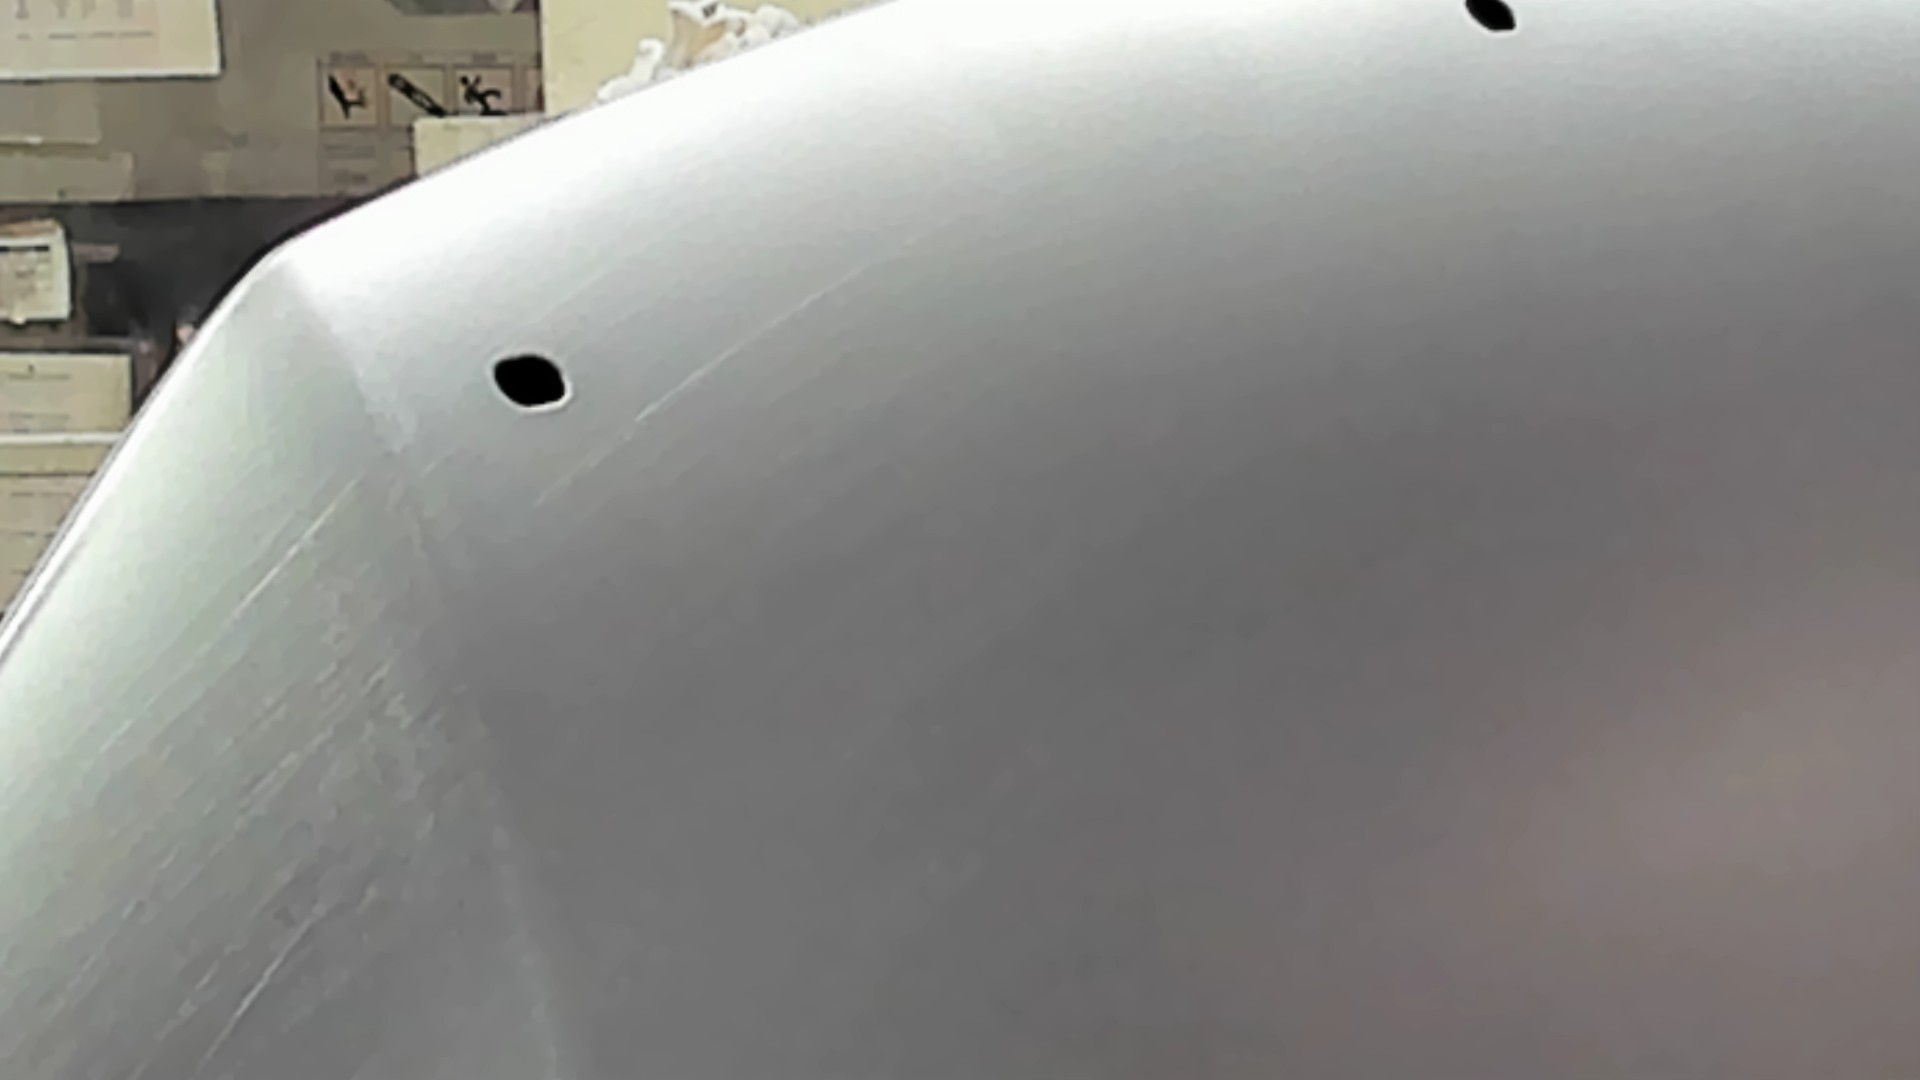amorfo: (480, 347, 574, 415), (1457, 1, 1524, 38)
capo: (721, 117, 1920, 1080)
